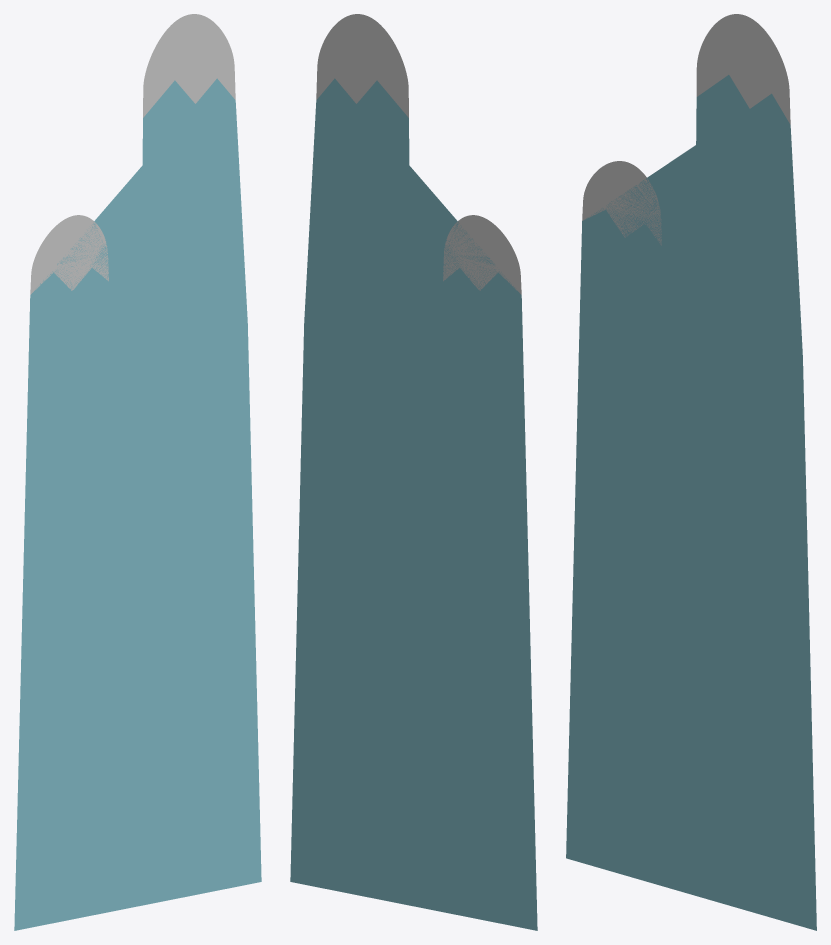
File: montain02_fbx.fbx
3 views of the same model, side by side, from view 1: azimuth 30°, elevation 25°; view 2: azimuth 150°, elevation 25°; view 3: azimuth 330°, elevation 25° (orthographic).
Visible parts, largest first — view 1: mountain02; view 2: mountain02; view 3: mountain02.
Part boxes in pixels (<box>): mountain02: <box>14,14,261,930</box>; mountain02: <box>290,14,537,930</box>; mountain02: <box>566,14,816,930</box>.
Bounding box in the file's own units: 593 × 2030 × 3.39e-21.
